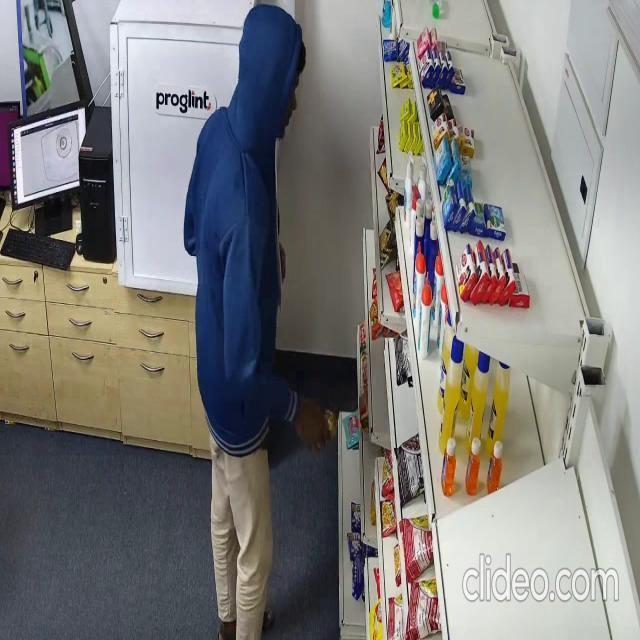normal: (169, 2, 346, 640), (178, 6, 324, 548), (164, 0, 253, 280), (160, 0, 214, 186)
